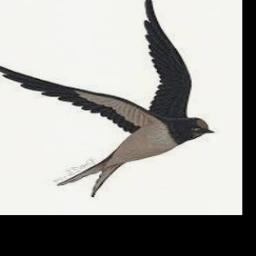Swallow: (0, 0, 216, 196)
